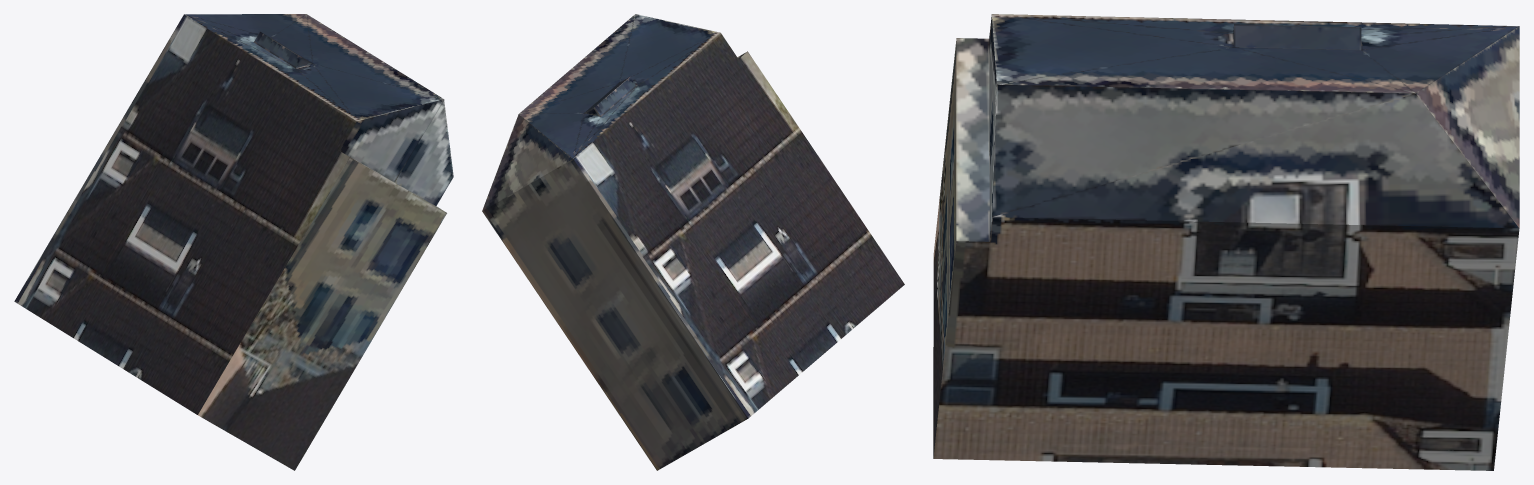
The picture shows the model from 3 angles, left to right: view 1: azimuth 30°, elevation 25°; view 2: azimuth 150°, elevation 25°; view 3: azimuth 270°, elevation 25°; orthographic projection. The views are drawn at different scales.
Visible parts, largest first — view 1: BAG_0599100000688707 (×4); view 2: BAG_0599100000688707 (×4); view 3: BAG_0599100000688707 (×4).
Boxes of the visible parts, x1,y1,x2,y2 form: BAG_0599100000688707 (×4): (14,14,453,470); BAG_0599100000688707 (×4): (482,14,904,470); BAG_0599100000688707 (×4): (933,14,1519,470).
Bounding box in the file's own units: 11.14 × 12.5 × 12.47.
Materials: 5 (5 with a texture image).
